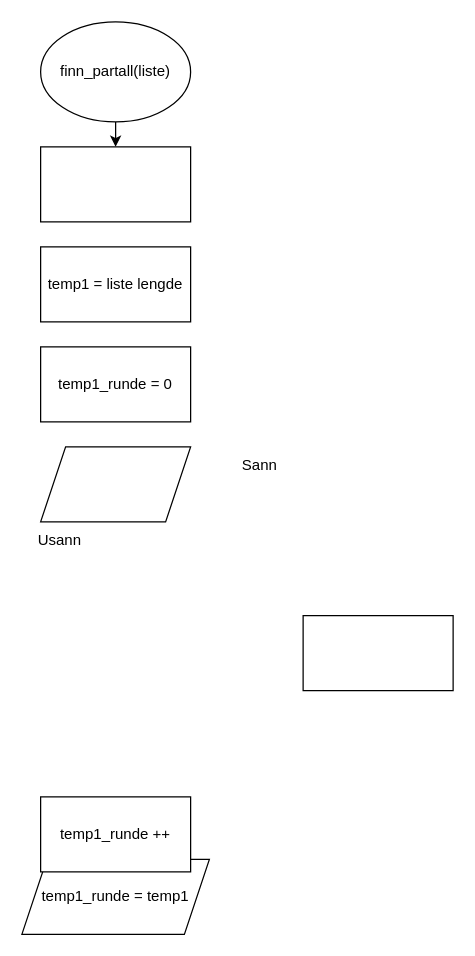
Some shapes in this 475 by 956 pixel diagram are drawn without their labels. Here are the shapes that lost their labels. From the top down, the centre of each, then its label:
At [115,184]: "produkt = []".
At [115,484]: "Er nummer".
